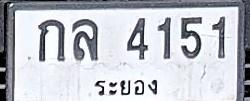1: (157, 16, 171, 59), (211, 16, 225, 58)
4: (126, 16, 148, 60)
5: (180, 16, 202, 58)
A01: (38, 19, 64, 62)
A36: (72, 18, 98, 60)
RYG: (91, 74, 161, 98)
